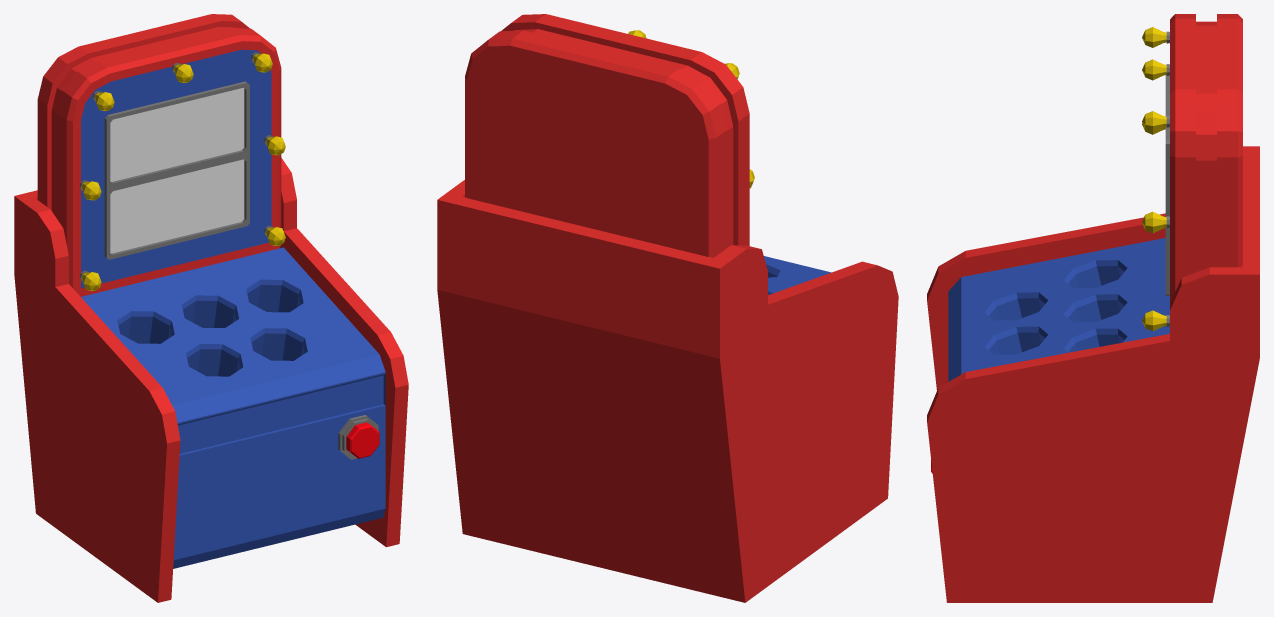
File: WhackAMole.fbx
3 views of the same model, side by side, from view 1: azimuth 30°, elevation 25°; view 2: azimuth 150°, elevation 25°; view 3: azimuth 270°, elevation 25° (orthographic). The views are drawn at different scales.
Visible parts, largest first — view 1: Cube.004, Cube.005, Cube.006, Cube.001, Lamps, Button, ButtonHousing; view 2: Cube.005, Cube.006, Cube.004; view 3: Cube.005, Cube.004, Cube.006, Lamps, Cube.001.
Part boxes in pixels (x1,y1,x2,y2): Cube.004: [81, 246, 385, 568]; Cube.005: [14, 158, 408, 602]; Cube.006: [37, 14, 281, 296]; Cube.001: [104, 81, 249, 259]; Lamps: [79, 52, 285, 290]; Button: [346, 422, 379, 458]; ButtonHousing: [338, 415, 378, 459]; Cube.005: [437, 180, 898, 602]; Cube.006: [465, 14, 749, 257]; Cube.004: [764, 256, 831, 294]; Cube.005: [927, 146, 1259, 602]; Cube.004: [948, 238, 1169, 381]; Cube.006: [1170, 14, 1242, 302]; Lamps: [1142, 27, 1169, 331]; Cube.001: [1165, 75, 1169, 295].
Bounding box in the file's own units: 158 × 278 × 173.
